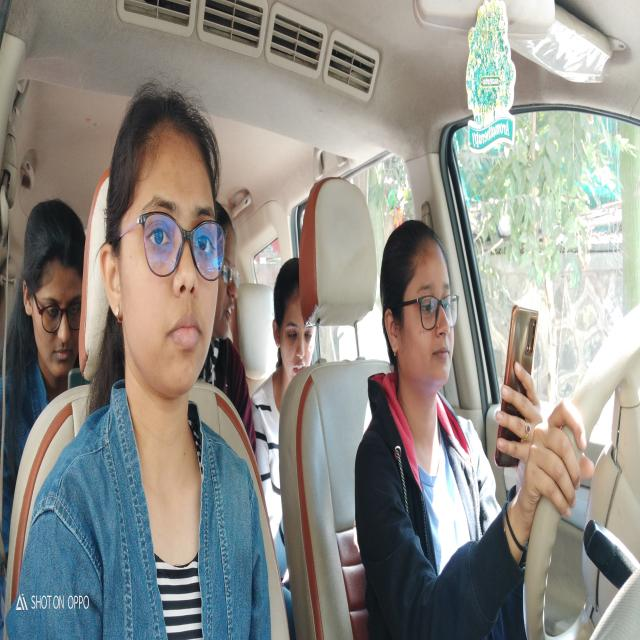mobile: (496, 291, 540, 474)
person: (104, 82, 221, 409), (380, 206, 461, 418), (19, 194, 88, 399), (271, 248, 320, 398), (217, 197, 242, 363)
